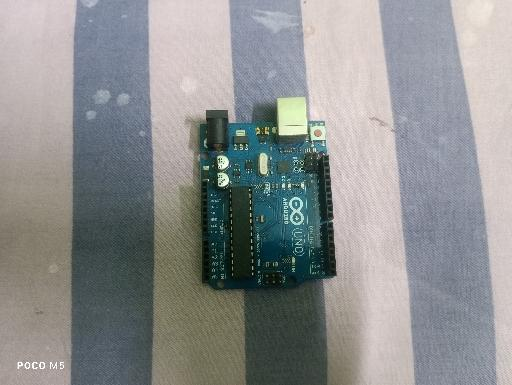Arduino: (199, 96, 337, 292)
